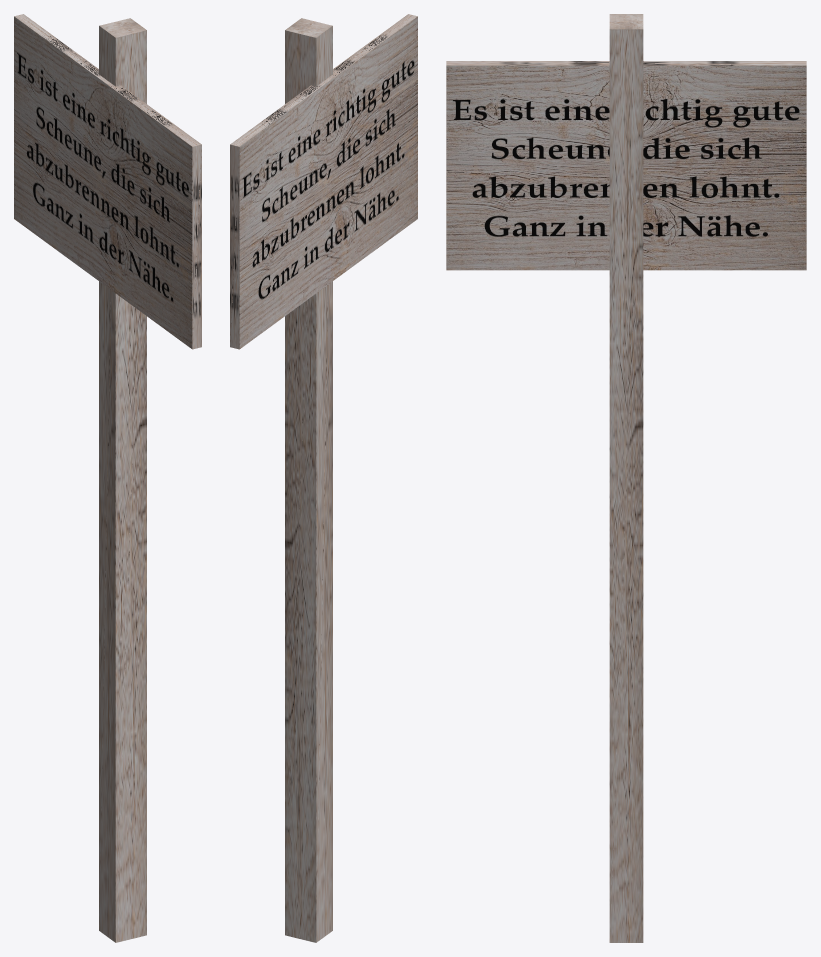
The model's file is Schild Bahn.fbx.
3 renders of one model, left to right at view 1: azimuth 30°, elevation 25°; view 2: azimuth 150°, elevation 25°; view 3: azimuth 270°, elevation 25°, orthographic.
Parts seen in each view (by area): view 1: Cube__1_, Cube; view 2: Cube__1_, Cube; view 3: Cube__1_, Cube.
Part boxes in pixels (x1,y1,x2,y2): Cube__1_: [14, 14, 201, 349]; Cube: [99, 18, 146, 942]; Cube__1_: [230, 14, 417, 349]; Cube: [285, 18, 332, 942]; Cube__1_: [446, 61, 806, 270]; Cube: [609, 14, 643, 942].
Bounding box in the file's own units: 12.87 × 313 × 112.
